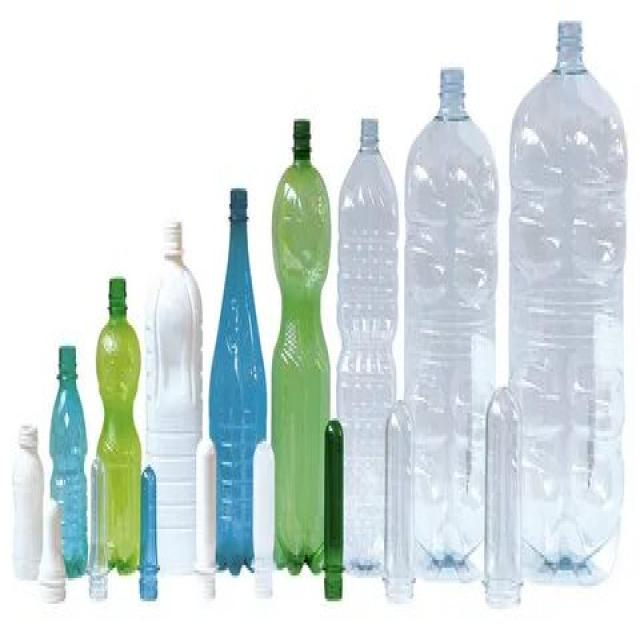blue: (271, 121, 327, 576)
